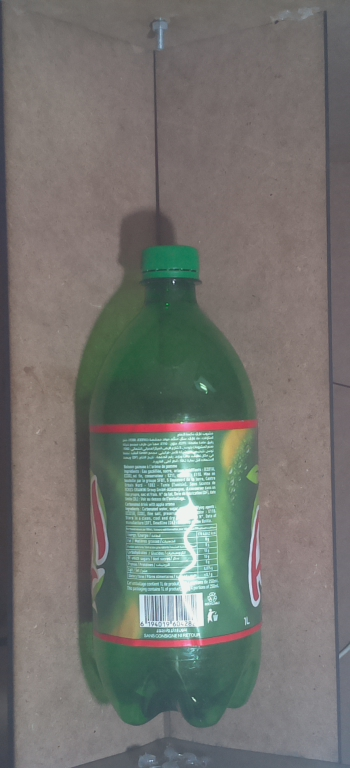Bouteille_1L: (72, 237, 273, 735)
